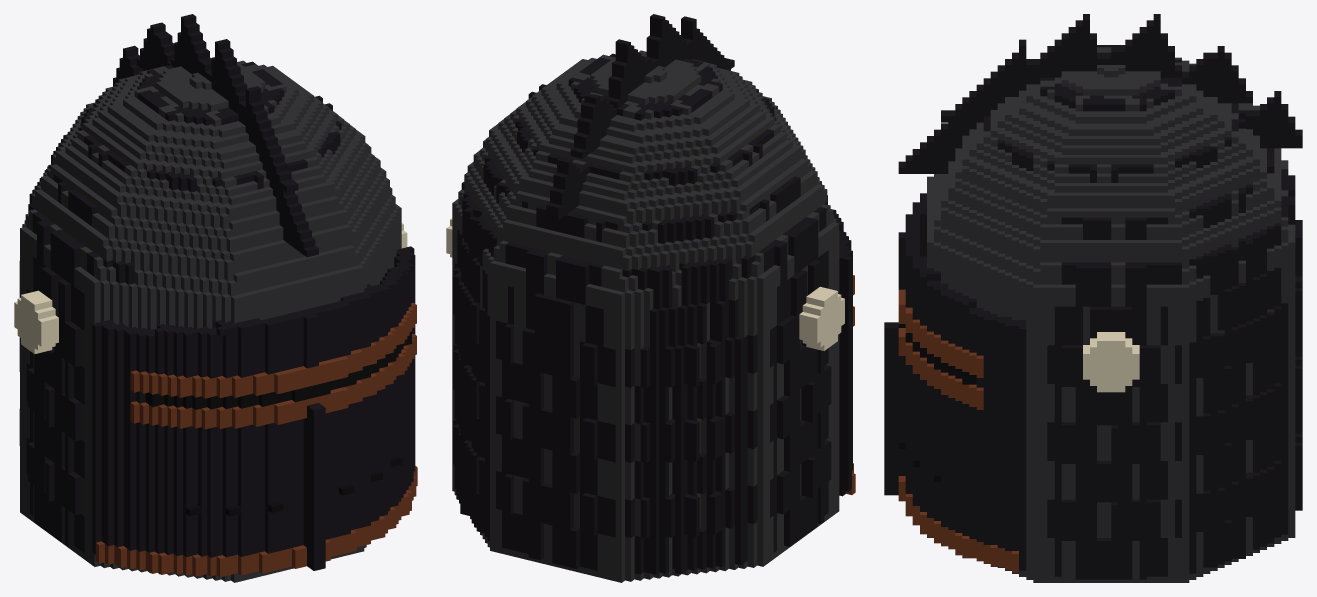
File: helmet_black_dragon_scale.glb
3 views of the same model, side by side, from view 1: azimuth 30°, elevation 25°; view 2: azimuth 150°, elevation 25°; view 3: azimuth 270°, elevation 25° (orthographic). The views are drawn at different scales.
Parts seen in each view (by area): view 1: helmet_black_dragon_scale:compound; view 2: helmet_black_dragon_scale:compound; view 3: helmet_black_dragon_scale:compound.
Boxes of the visible parts, x1,y1,x2,y2 form: helmet_black_dragon_scale:compound: (14, 14, 417, 582); helmet_black_dragon_scale:compound: (446, 14, 855, 582); helmet_black_dragon_scale:compound: (884, 14, 1302, 582).
Bounding box in the file's own units: 0.248 × 0.304 × 0.236.
